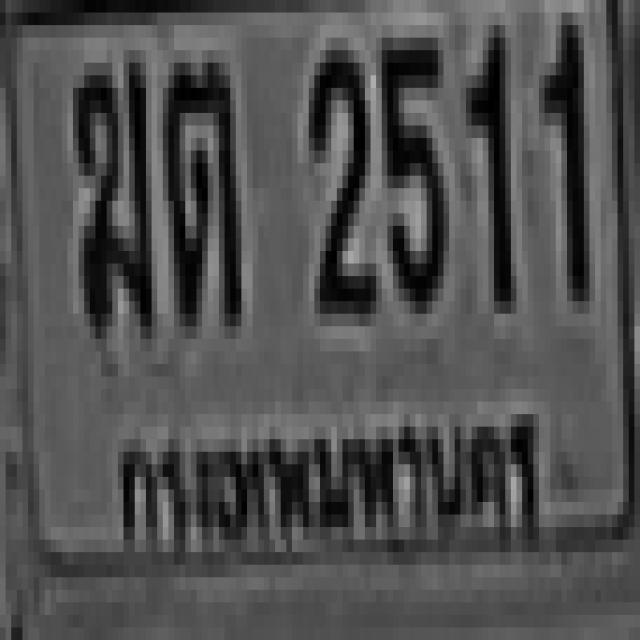1: (539, 12, 584, 288), (463, 25, 508, 301)
15KhorRaKhang: (70, 50, 149, 326)
2: (306, 44, 368, 307)
30TorTao: (160, 50, 239, 326)
5: (376, 25, 444, 301)
Bangkok: (112, 387, 551, 548)
